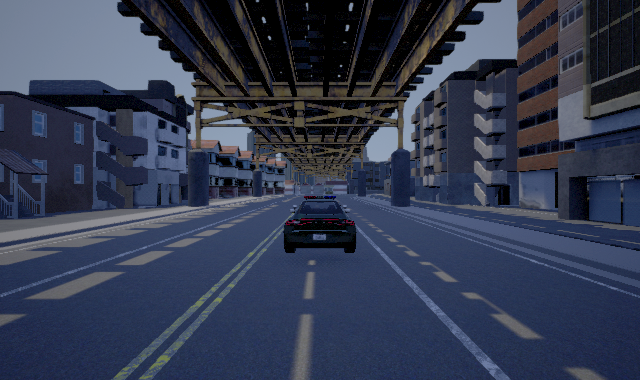vehicle: (283, 196, 357, 253)
